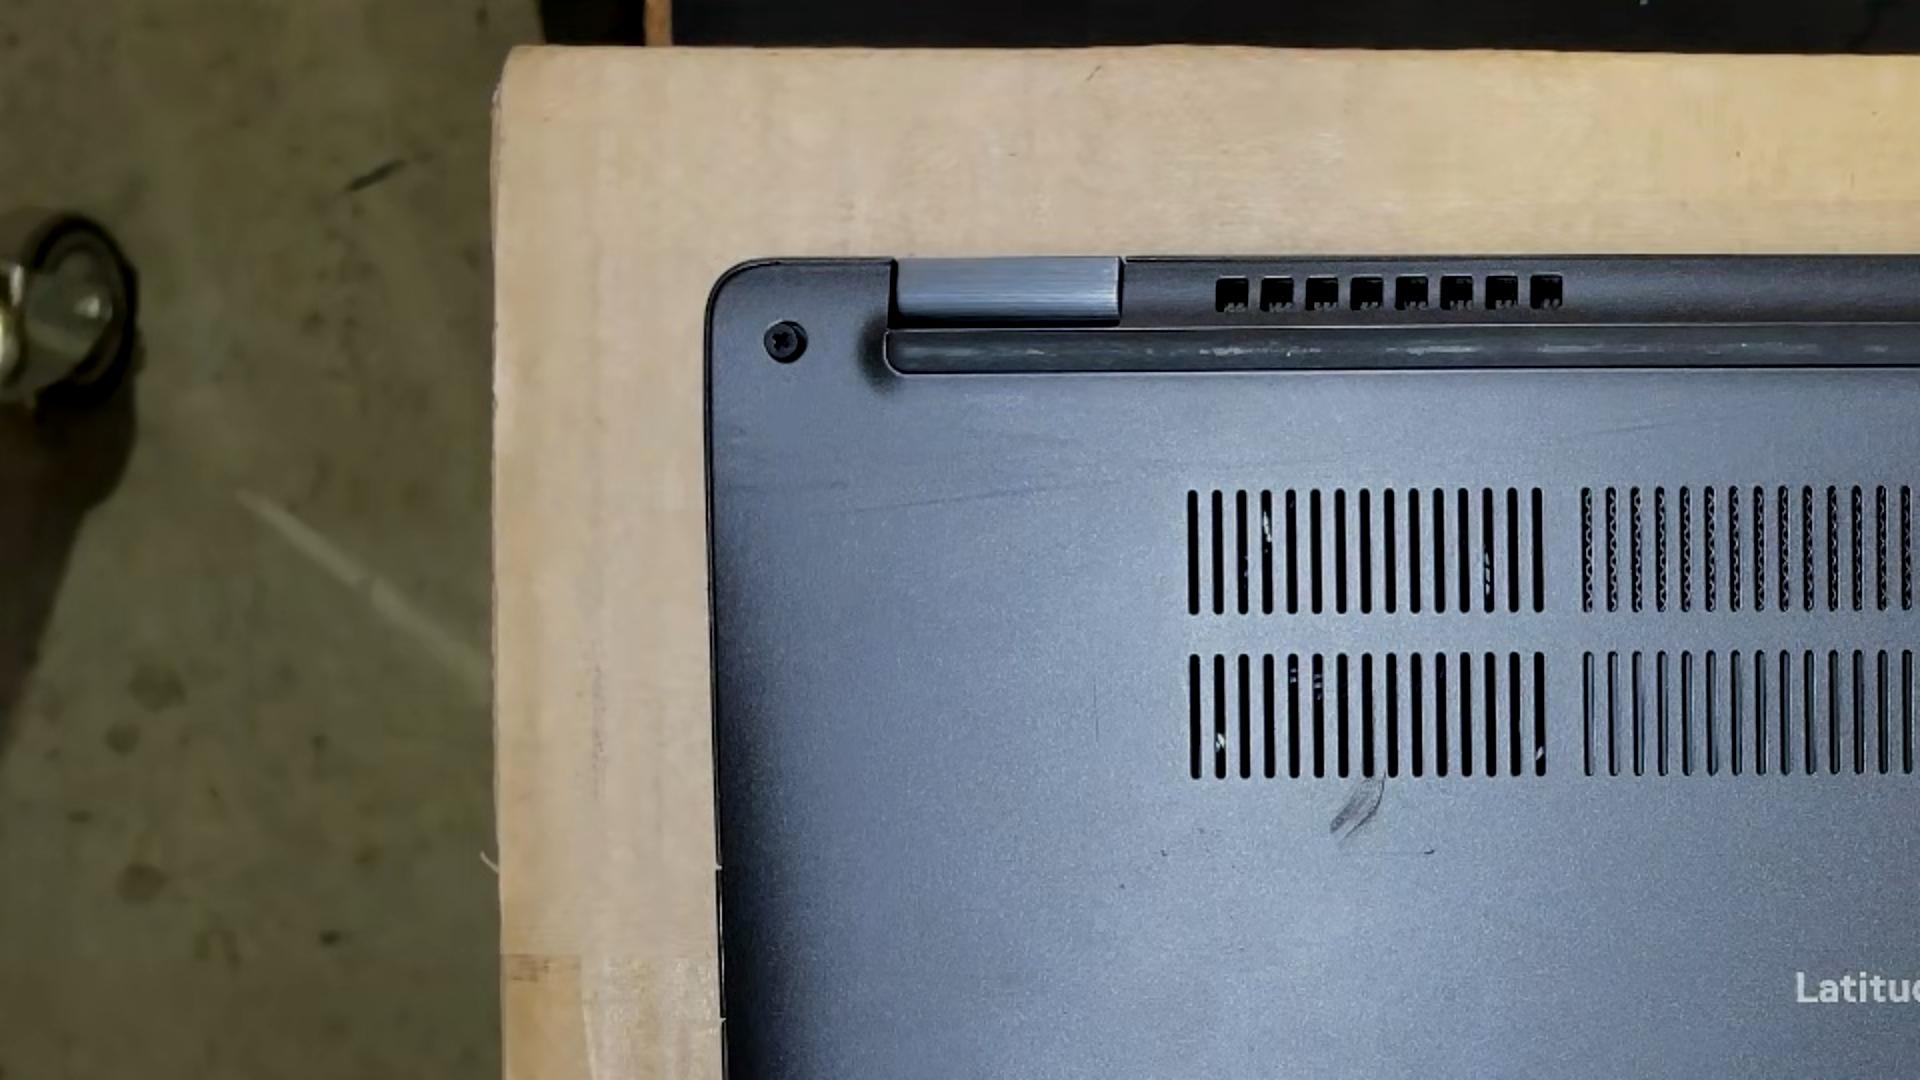chip: (1284, 351, 1292, 357)
scratches: (822, 476, 1118, 521), (1338, 770, 1387, 843), (1092, 675, 1101, 745), (1423, 848, 1436, 855), (1741, 343, 1749, 347)
